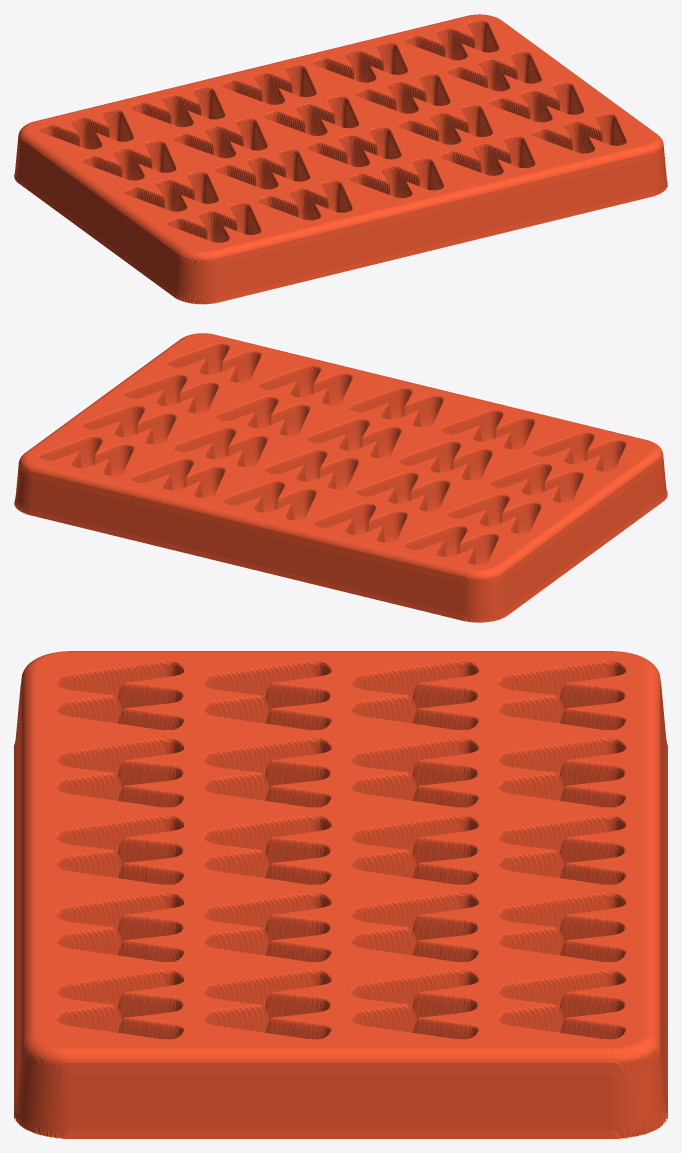
Rendered from mold.glb.
3 renders of one model, top to bottom at view 1: azimuth 30°, elevation 25°; view 2: azimuth 150°, elevation 25°; view 3: azimuth 270°, elevation 25°, orthographic. The views are drawn at different scales.
Visible parts, largest first — view 1: geometry_0; view 2: geometry_0; view 3: geometry_0.
Boxes of the visible parts, x1,y1,x2,y2 form: geometry_0: [14, 14, 667, 304]; geometry_0: [14, 333, 667, 622]; geometry_0: [14, 651, 667, 1138].
Bounding box in the file's own units: 0.1571 × 0.0145 × 0.1049.
